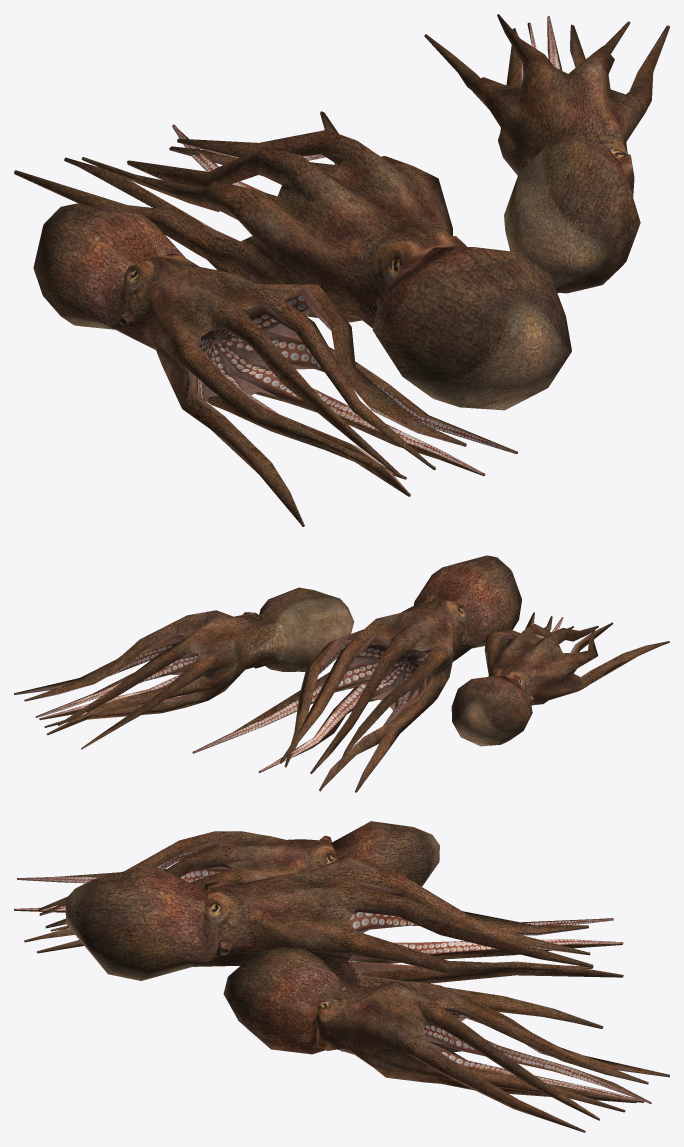
File: OctoPile.dae
3 views of the same model, one above another, from view 1: azimuth 30°, elevation 25°; view 2: azimuth 150°, elevation 25°; view 3: azimuth 270°, elevation 25° (orthographic). The views are drawn at different scales.
Visible parts, largest first — view 1: OctoPile; view 2: OctoPile; view 3: OctoPile.
Part boxes in pixels (x1,y1,x2,y2): OctoPile: (14, 14, 669, 526); OctoPile: (14, 555, 669, 792); OctoPile: (14, 821, 669, 1132).
Bounding box in the file's own units: 1.45 × 0.2878 × 1.52.
1 material, 1 textured.
